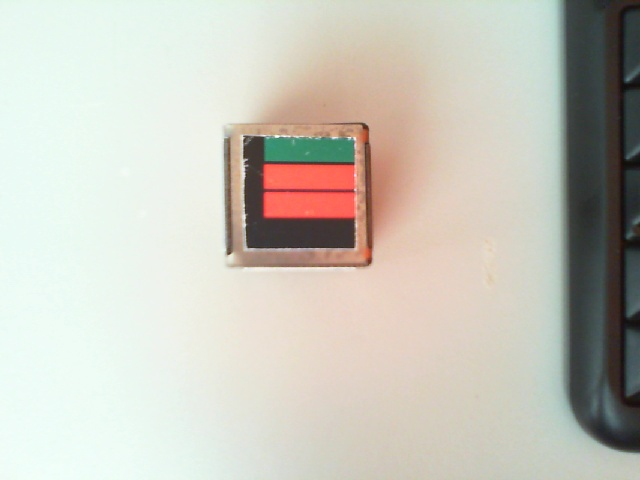square: (244, 135, 355, 251)
